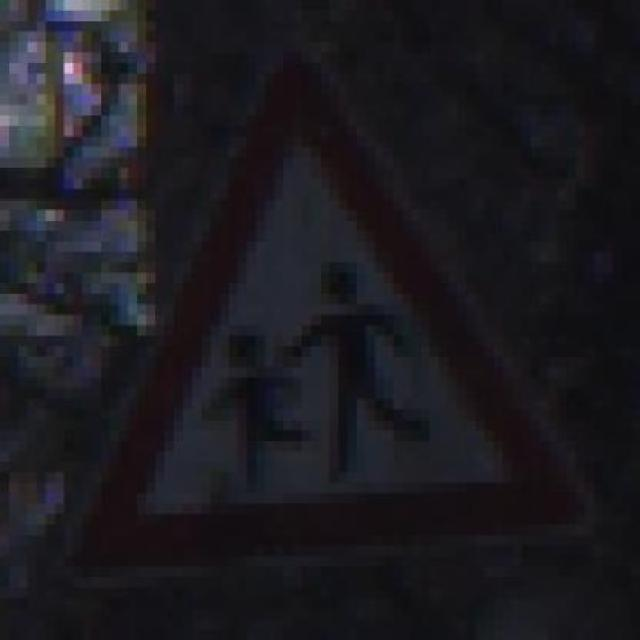Beware of children: (46, 52, 576, 566)
